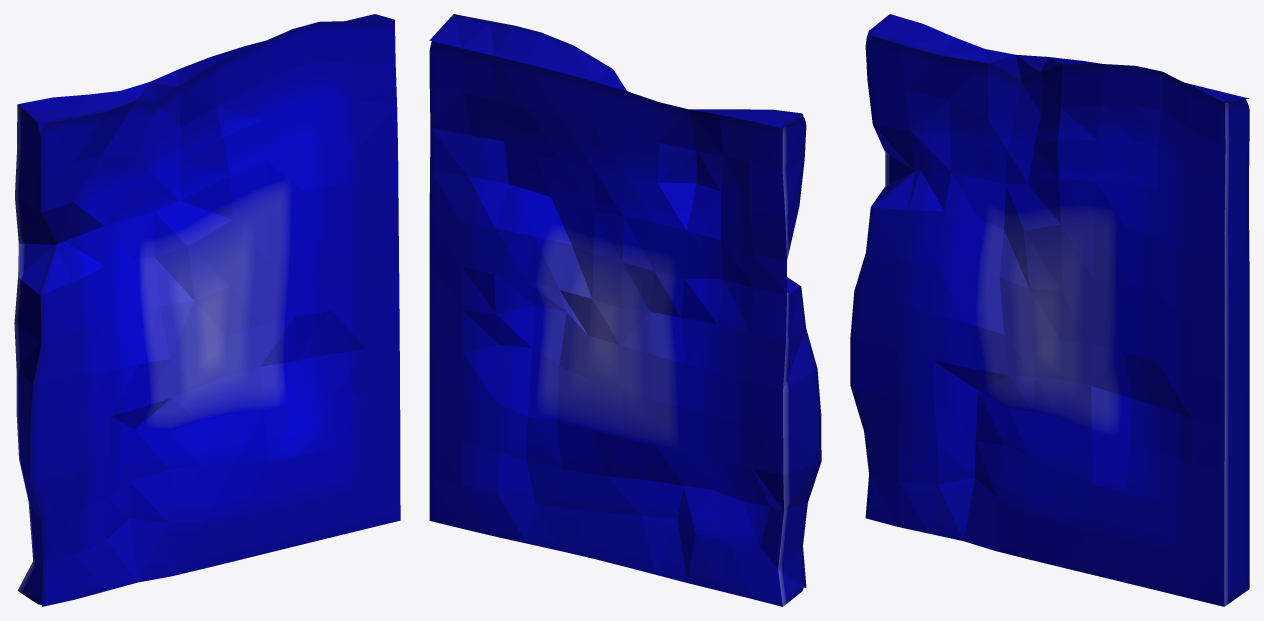
Rendered from blue_moongate_0777x06.obj.
3 renders of one model, left to right at view 1: azimuth 30°, elevation 25°; view 2: azimuth 150°, elevation 25°; view 3: azimuth 330°, elevation 25°, orthographic.
Visible parts, largest first — view 1: blue_moongate_0777x06; view 2: blue_moongate_0777x06; view 3: blue_moongate_0777x06.
Part boxes in pixels (x1=…): blue_moongate_0777x06: x1=14, y1=14, x2=400, y2=606; blue_moongate_0777x06: x1=429, y1=14, x2=821, y2=606; blue_moongate_0777x06: x1=850, y1=14, x2=1249, y2=606.
Size of the model in its own units: 4.27 by 5.6 by 0.5416.
